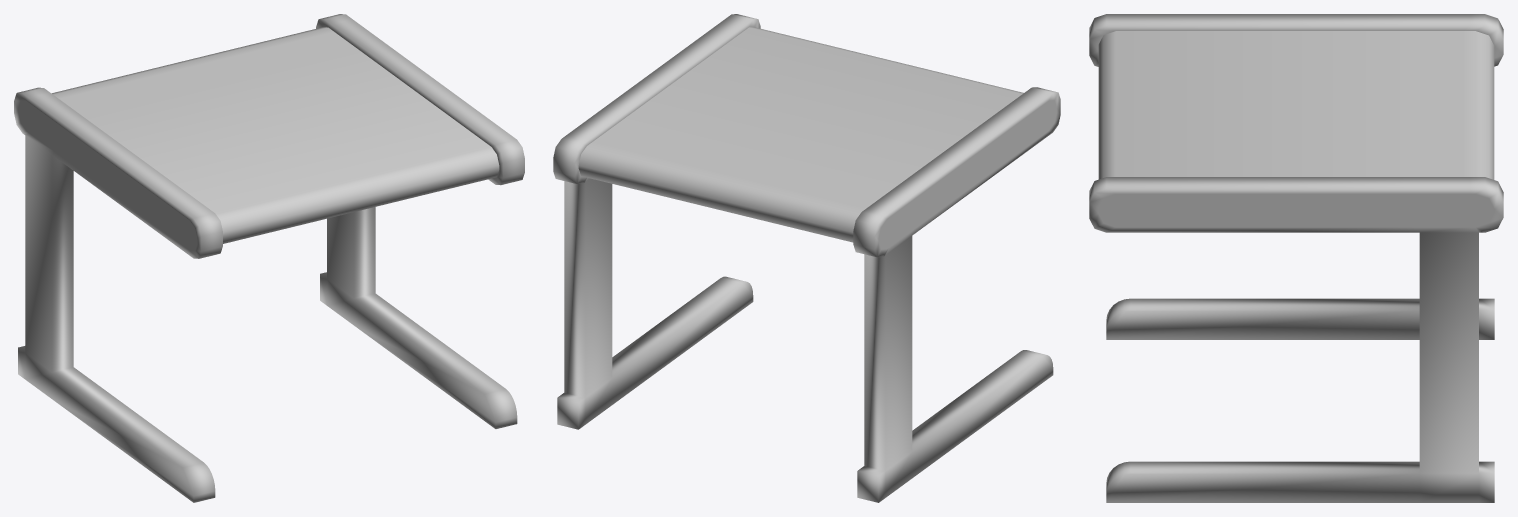
The model's file is Mesa-Pequena.glb.
3 renders of one model, left to right at view 1: azimuth 30°, elevation 25°; view 2: azimuth 150°, elevation 25°; view 3: azimuth 270°, elevation 25°, orthographic. The views are drawn at different scales.
Parts seen in each view (by area): view 1: Cube.010; view 2: Cube.010; view 3: Cube.010.
Boxes of the visible parts, x1,y1,x2,y2 form: Cube.010: (14, 14, 524, 502); Cube.010: (553, 14, 1060, 502); Cube.010: (1089, 14, 1503, 502).
Bounding box in the file's own units: 1.11 × 0.9354 × 1.12.
1 material, 1 textured.
